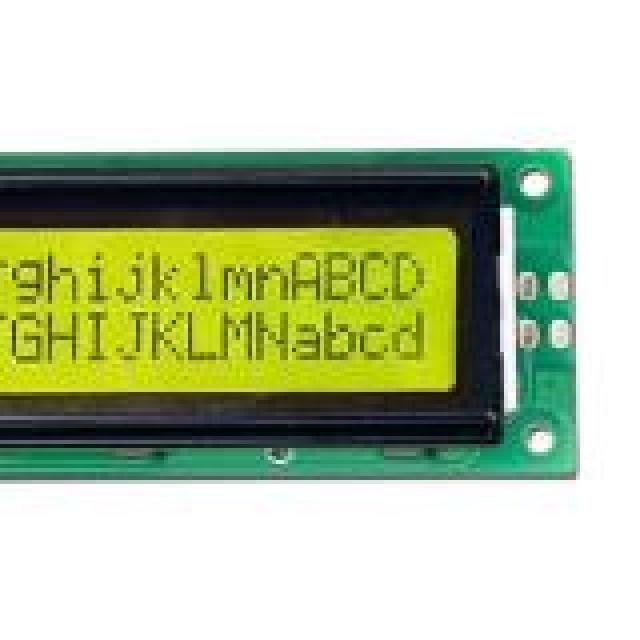display: (0, 176, 524, 448)
